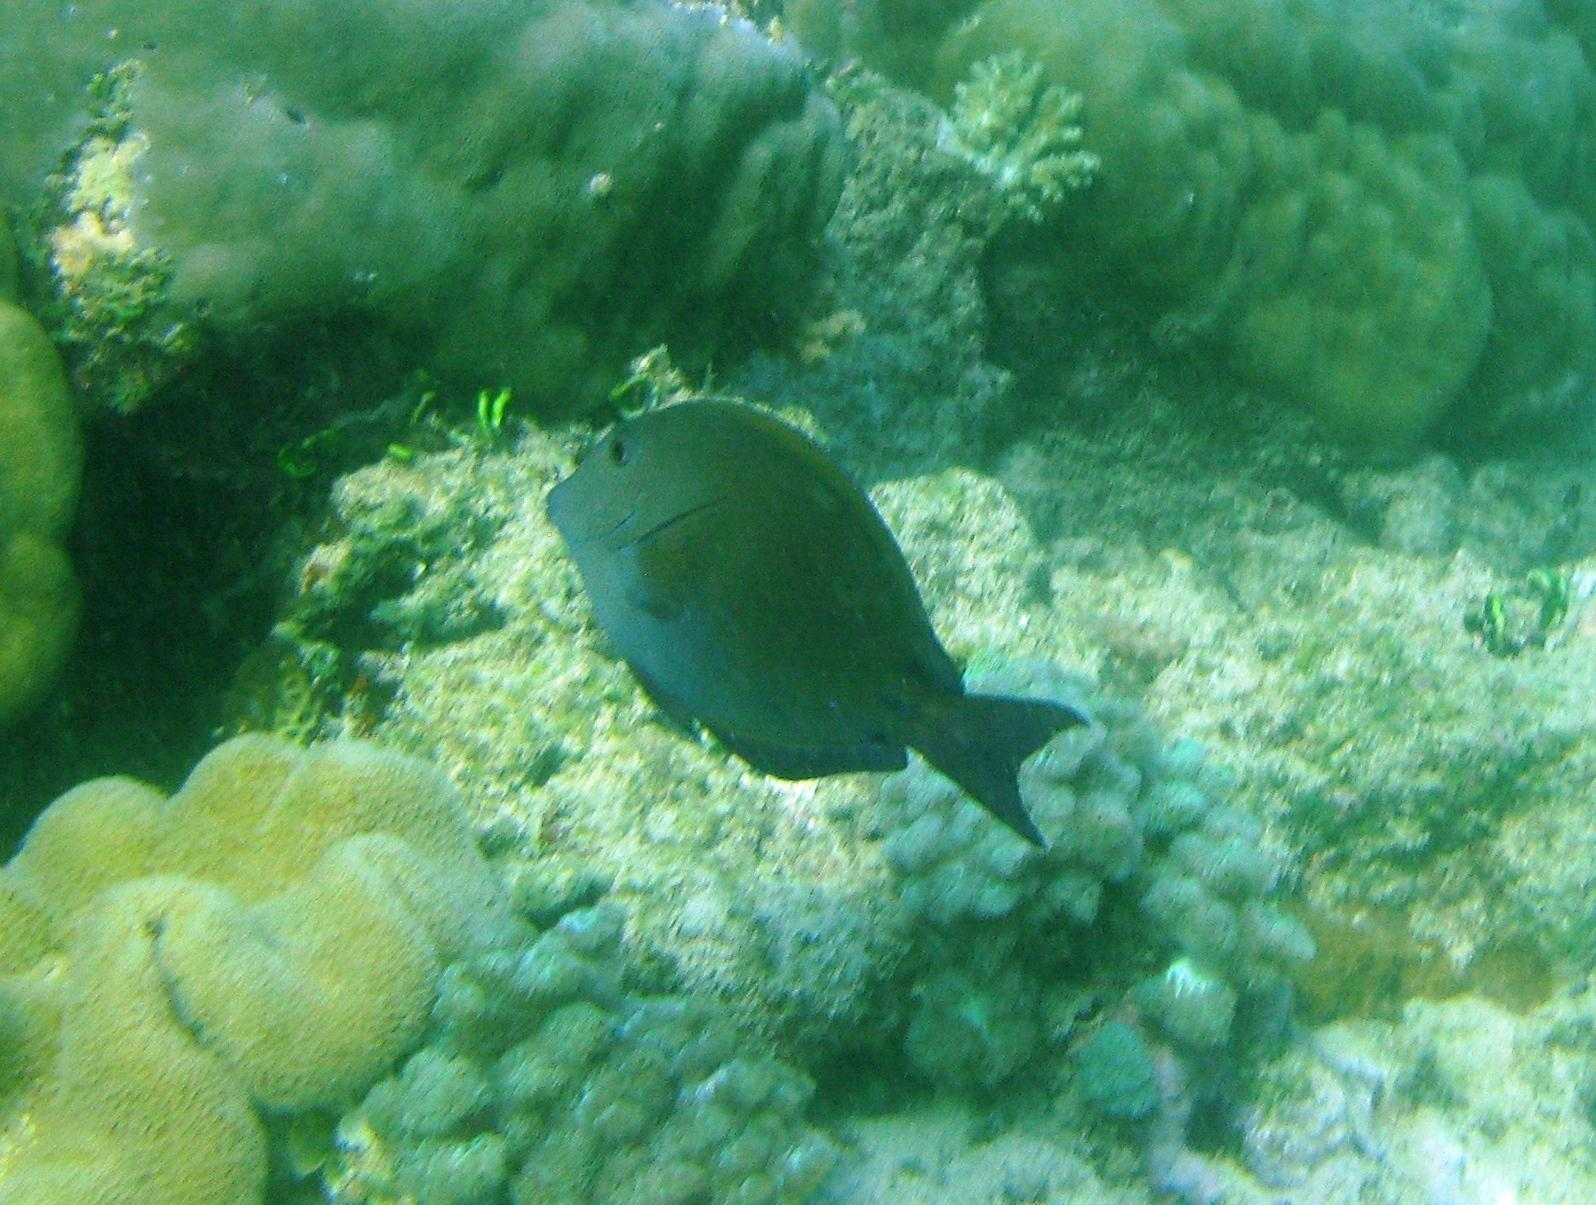Fish: (448, 362, 1150, 881)
